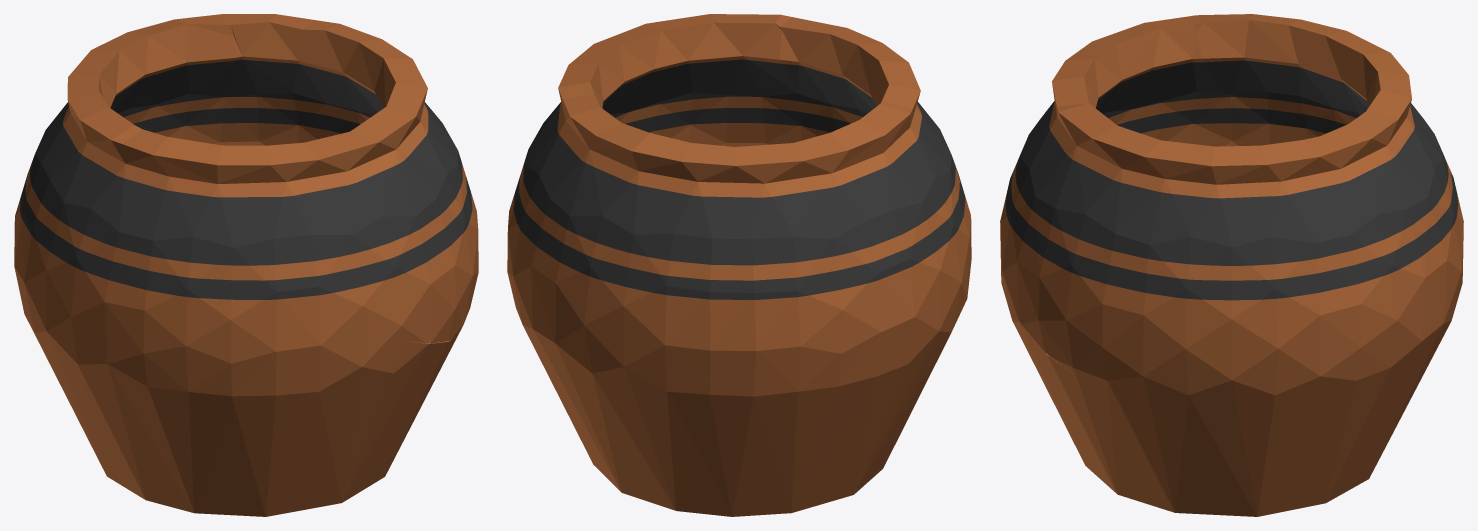
The model's file is Pottery 10_1b.fbx.
3 renders of one model, left to right at view 1: azimuth 30°, elevation 25°; view 2: azimuth 150°, elevation 25°; view 3: azimuth 270°, elevation 25°, orthographic.
Visible parts, largest first — view 1: Pottery 10_1b.001, Pottery 10_1b.006, Pottery 10_1b.004, Pottery 10_1b.002, Pottery 10_1b.007, Pottery 10_1b, Pottery 10_1b.003; view 2: Pottery 10_1b.004, Pottery 10_1b.006, Pottery 10_1b, Pottery 10_1b.007, Pottery 10_1b.001, Pottery 10_1b.003; view 3: Pottery 10_1b.006, Pottery 10_1b.007, Pottery 10_1b.004, Pottery 10_1b, Pottery 10_1b.001, Pottery 10_1b.002.
Part boxes in pixels (box(x1,y1,x2,y2)): Pottery 10_1b.001: box(39, 129, 384, 442); Pottery 10_1b.006: box(298, 20, 478, 343); Pottery 10_1b.004: box(14, 14, 234, 304); Pottery 10_1b.002: box(178, 333, 457, 486); Pottery 10_1b.007: box(172, 14, 363, 145); Pottery 10_1b: box(90, 442, 394, 516); Pottery 10_1b.003: box(22, 247, 177, 463); Pottery 10_1b.004: box(594, 101, 926, 465); Pottery 10_1b.006: box(526, 14, 814, 156); Pottery 10_1b: box(543, 366, 901, 516); Pottery 10_1b.007: box(507, 94, 621, 397); Pottery 10_1b.001: box(779, 17, 971, 315); Pottery 10_1b.003: box(809, 264, 959, 469); Pottery 10_1b.006: box(1001, 103, 1346, 441); Pottery 10_1b.007: box(1257, 111, 1462, 412); Pottery 10_1b.004: box(1183, 14, 1463, 287); Pottery 10_1b: box(1067, 342, 1440, 516); Pottery 10_1b.001: box(1000, 17, 1251, 258); Pottery 10_1b.002: box(1001, 259, 1254, 483).
Size of the model in its own units: 72 by 63.8 by 72.
